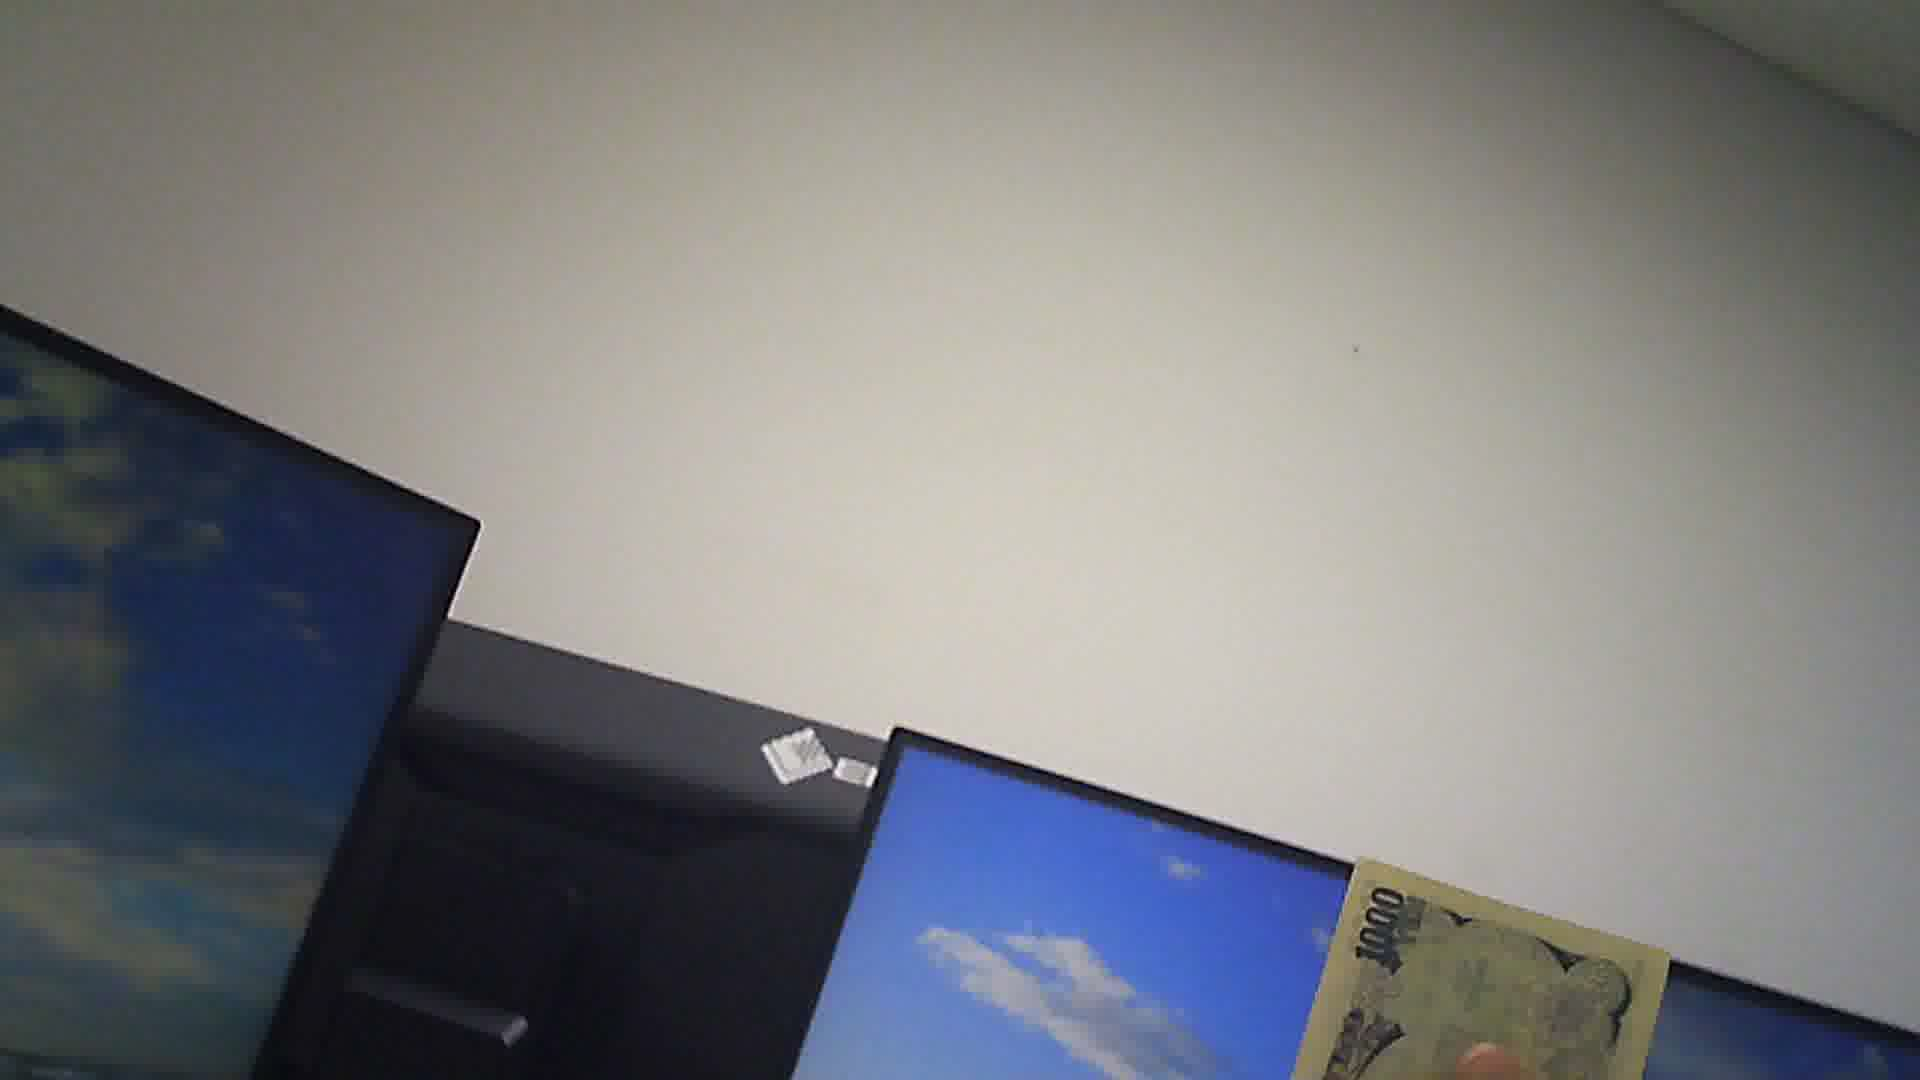1,000 Yen: (1282, 851, 1683, 1079)
